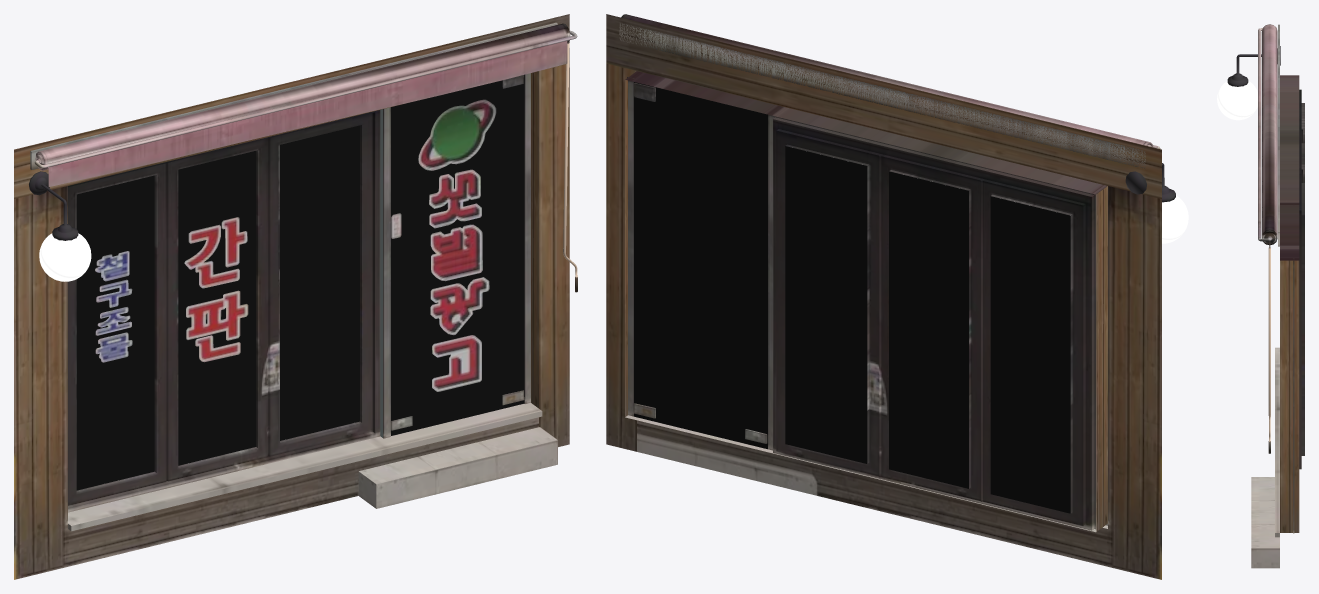
File: env-shop-a.glb
The picture shows the model from 3 angles, left to right: view 1: azimuth 30°, elevation 25°; view 2: azimuth 150°, elevation 25°; view 3: azimuth 270°, elevation 25°; orthographic projection. The views are drawn at different scales.
Visible parts, largest first — view 1: Shop_11_Shop_11_0, Shop_11_Shop_11_Glass_0, Shop_11_Shop_11_Stiker_0, Shop_11_Lamp_0; view 2: Shop_11_Shop_11_0, Shop_11_Shop_11_Glass_0, Shop_11_Lamp_0; view 3: Shop_11_Shop_11_0, Shop_11_Lamp_0.
Part boxes in pixels (x1,y1,x2,y2): Shop_11_Shop_11_0: (14, 14, 577, 579); Shop_11_Shop_11_Glass_0: (76, 75, 524, 490); Shop_11_Shop_11_Stiker_0: (95, 99, 496, 391); Shop_11_Lamp_0: (39, 233, 91, 281); Shop_11_Shop_11_0: (606, 14, 1175, 579); Shop_11_Shop_11_Glass_0: (634, 82, 1070, 513); Shop_11_Lamp_0: (1162, 195, 1188, 243); Shop_11_Shop_11_0: (1227, 24, 1304, 568); Shop_11_Lamp_0: (1217, 81, 1257, 120).
Bounding box in the file's own units: 9.04 × 6.67 × 1.53.
Materials: 5 (2 with a texture image).
